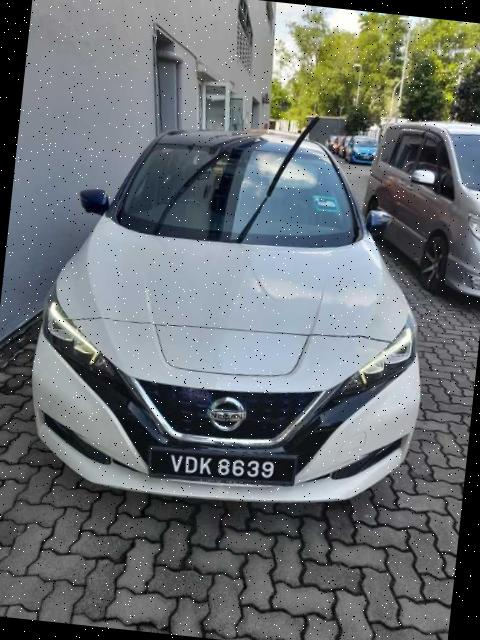License_Plate: (145, 440, 300, 495)
car: (21, 104, 449, 523)
